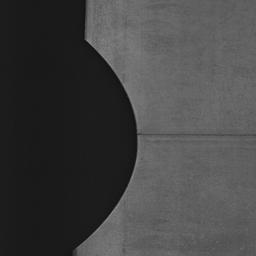Crescent gap: (77, 41, 137, 247)
